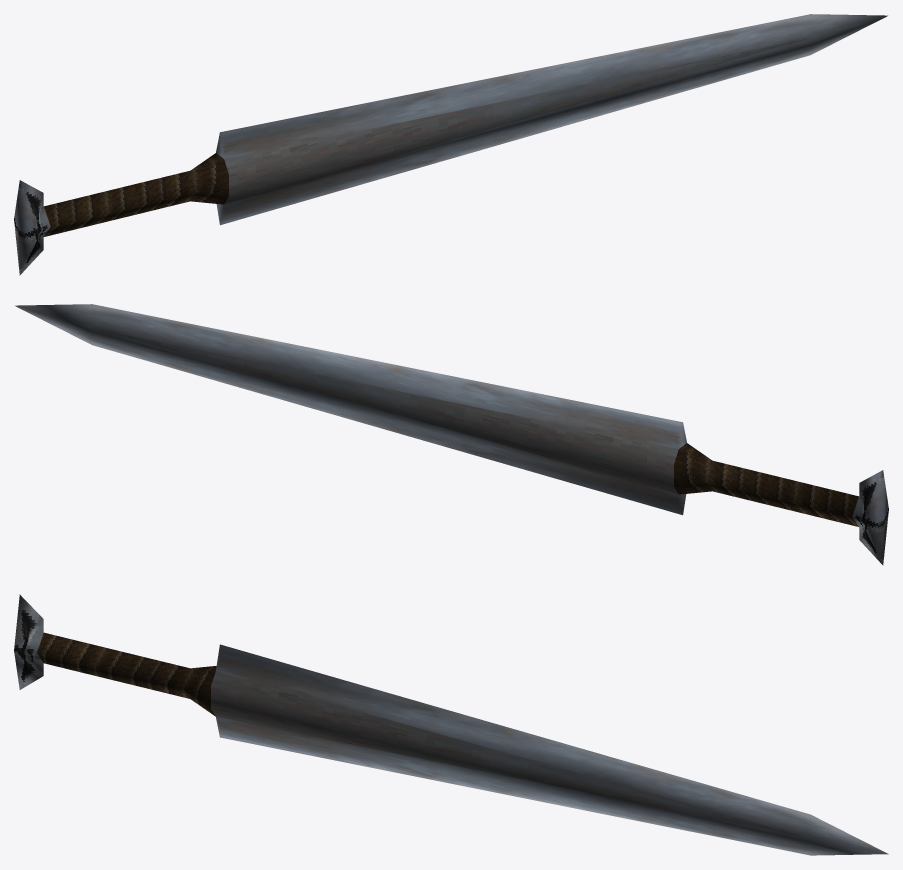
3 views of the same model, one above another, from view 1: azimuth 30°, elevation 25°; view 2: azimuth 150°, elevation 25°; view 3: azimuth 330°, elevation 25° (orthographic).
Parts seen in each view (by area): view 1: it88; view 2: it88; view 3: it88.
Part boxes in pixels (bbox=[...]): it88: bbox=[14, 14, 887, 275]; it88: bbox=[15, 304, 888, 565]; it88: bbox=[14, 594, 888, 855].
Size of the model in its own units: 4.97 by 0.5237 by 0.1982.
Materials: 4 (4 with a texture image).
